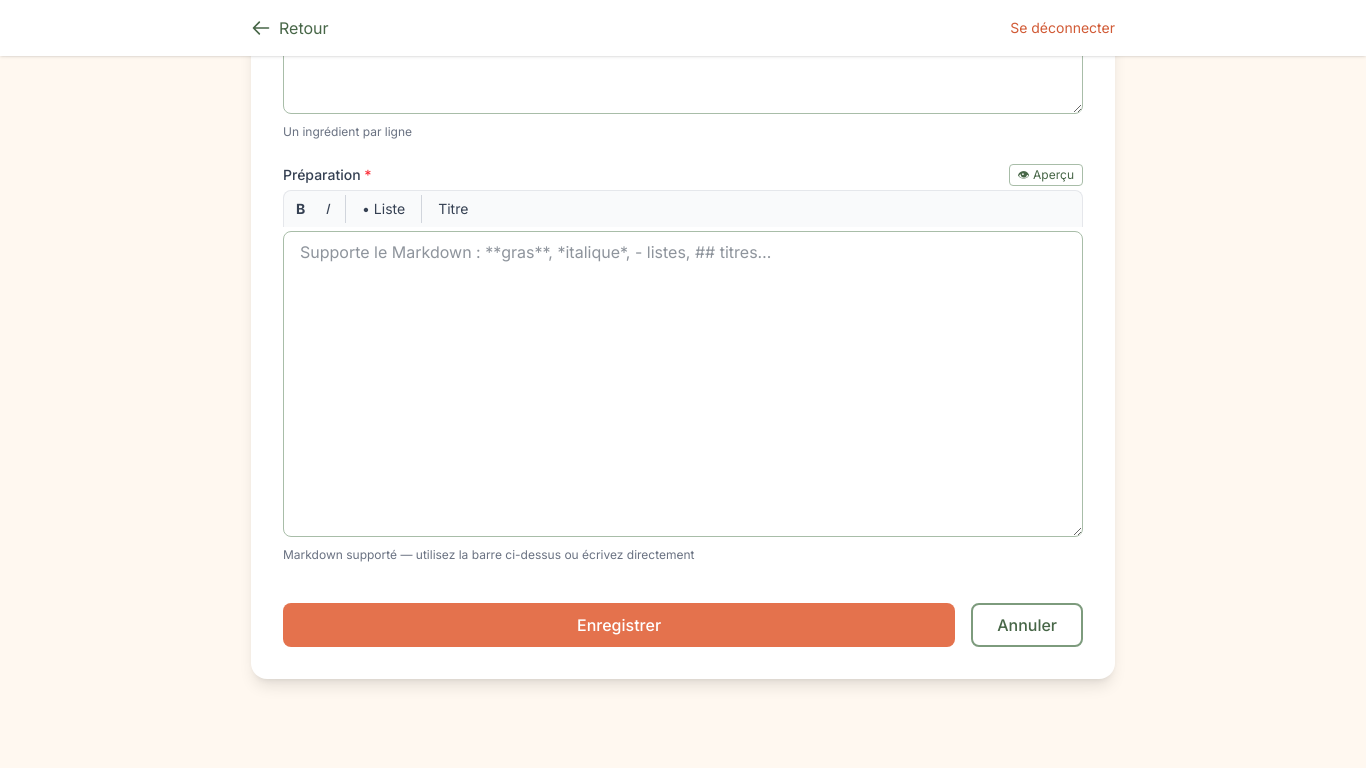
Test case: Admin — barre d'outils Markdown › rend le Markdown correctement dans l'aperçu
The width and height of the screenshot is (1366, 768).
(page scrolled)
Replace the text in the text box with placeholder "Supporte le Markdown" with "Cuire **doucement** à feu doux.". click: (683, 384)
box: x1=283 y1=231 x2=1083 y2=537
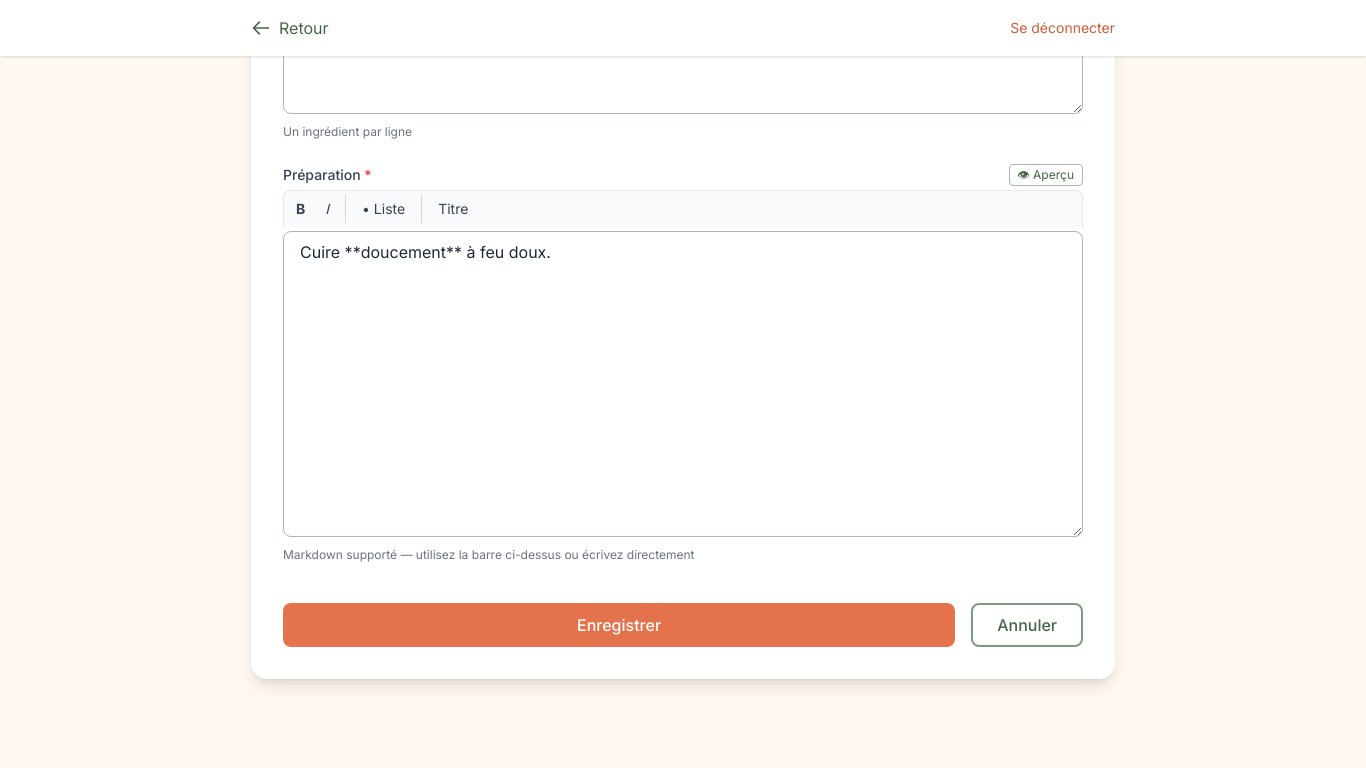
Click the button "👁 Aperçu". click: (1046, 175)
box: x1=1009 y1=164 x2=1083 y2=186
(page scrolled)
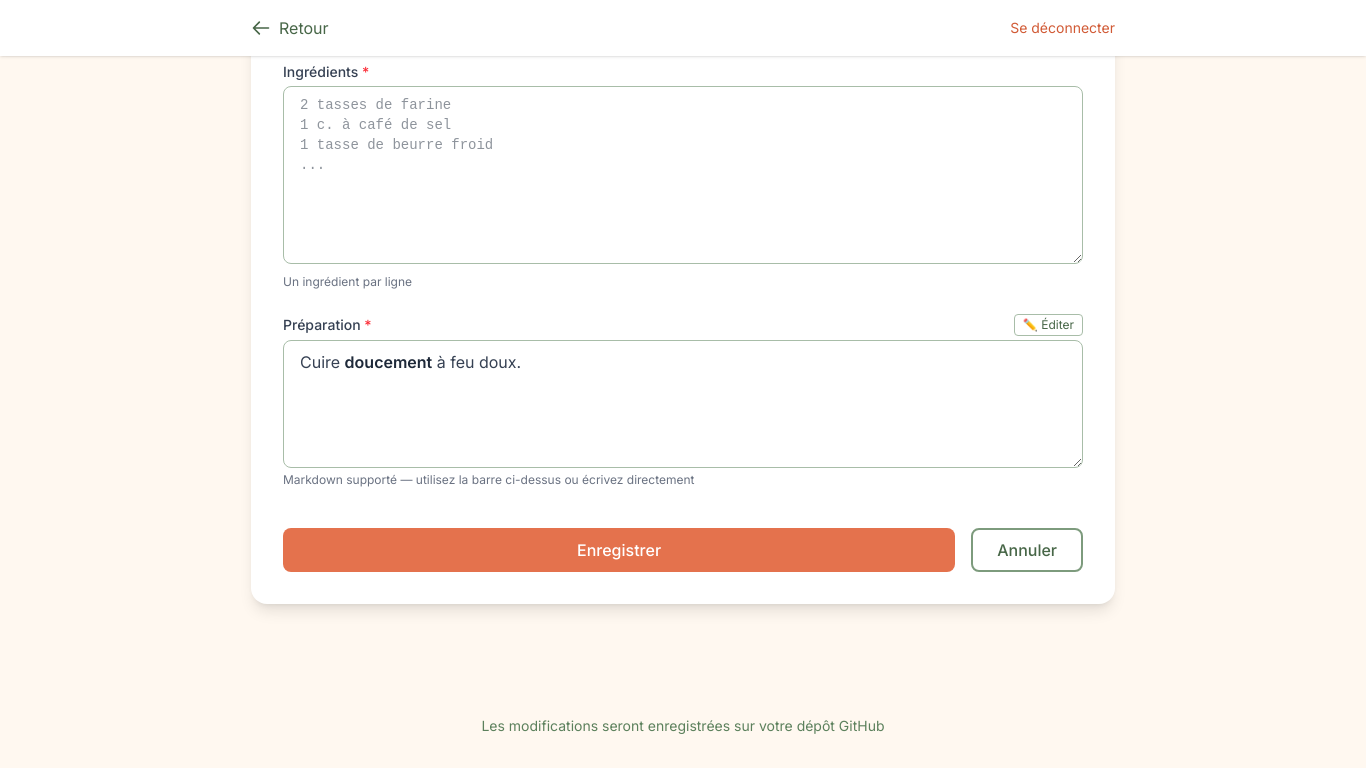
Now the text "doucement" is shown, box x1=345 y1=352 x2=432 y2=372
